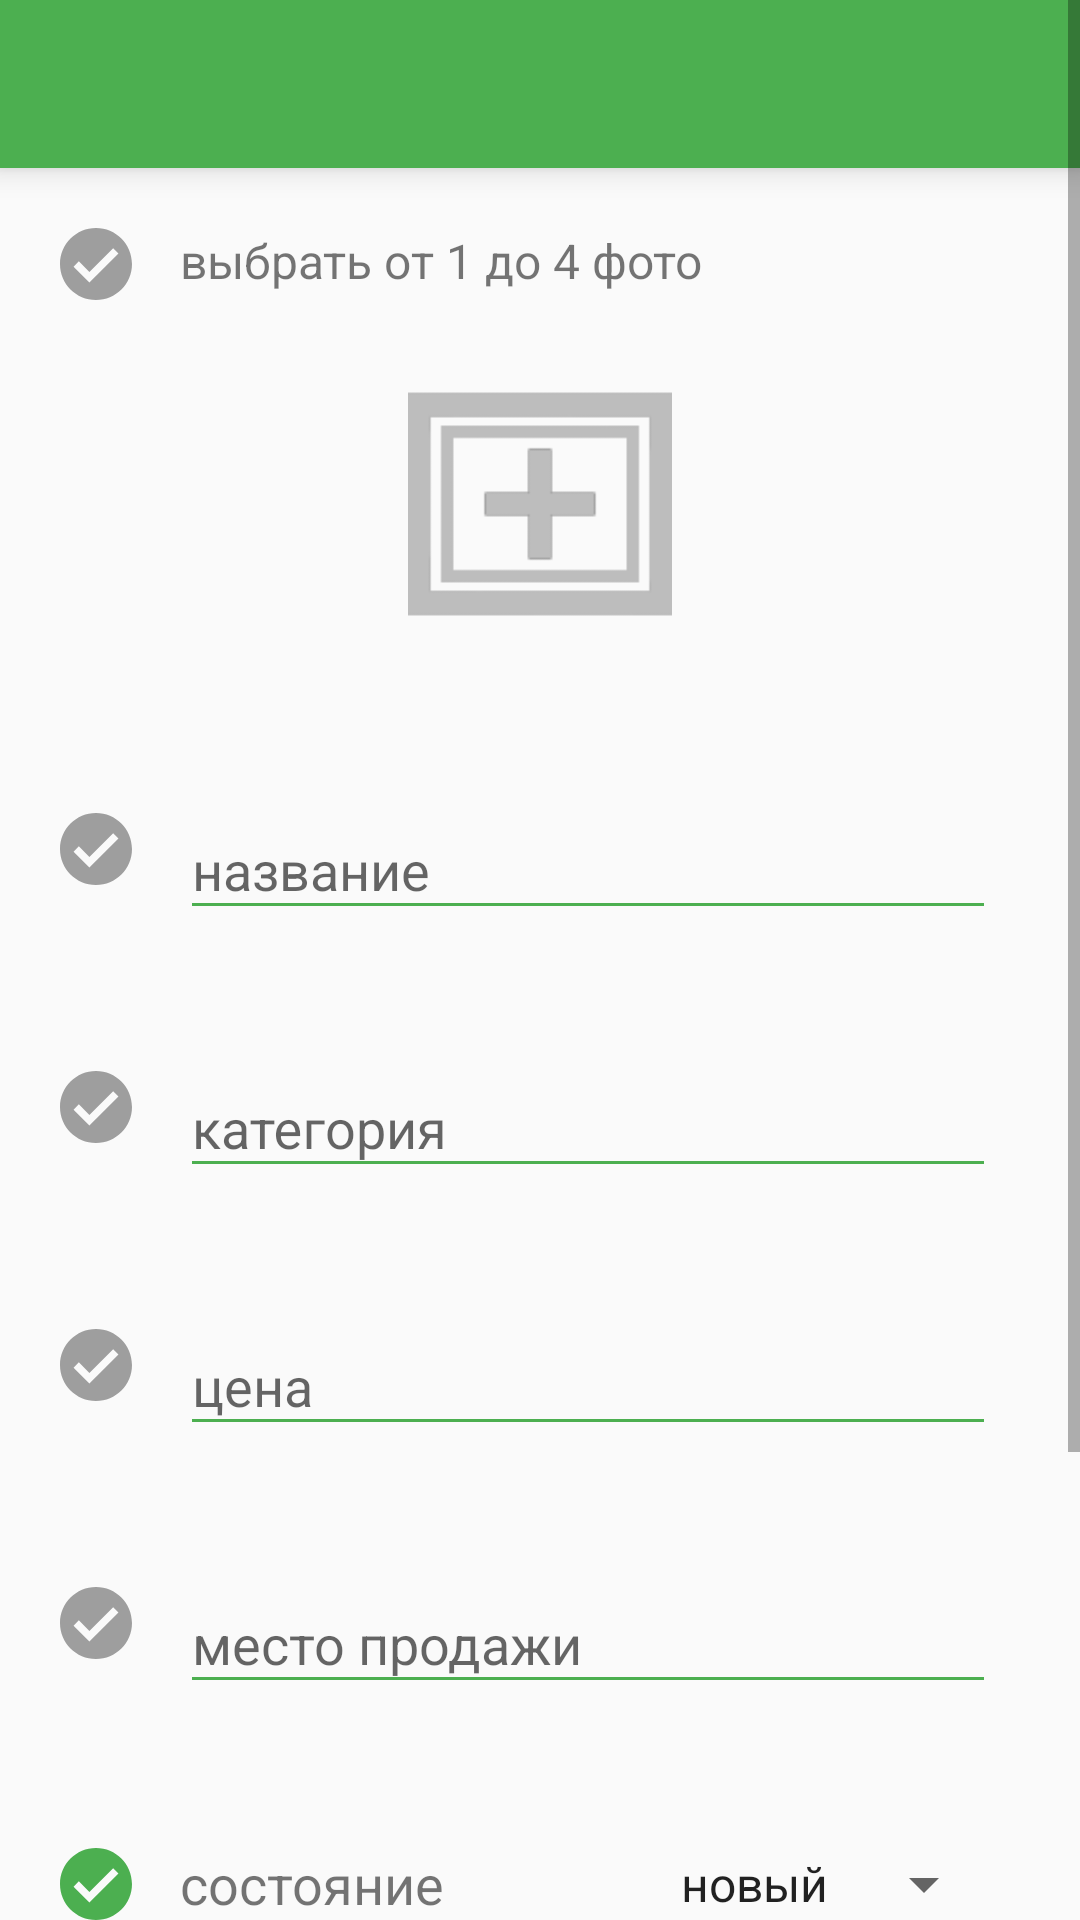

Icons on this 1080px×1920px Android screen, each with the point to tap as (x,y):
checked: (96,264), (96,849), (96,1107), (96,1365), (96,1623), (96,1884)
